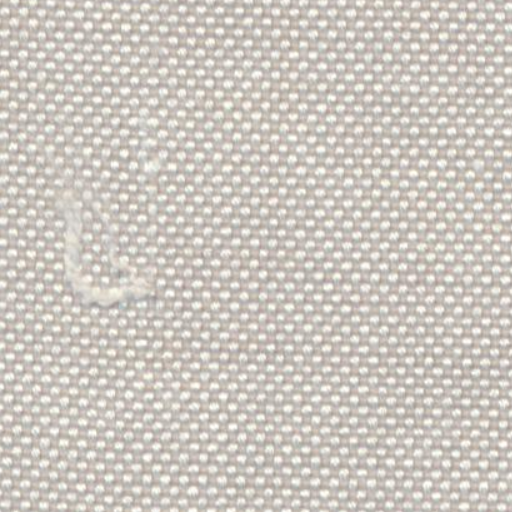DuanSha: (40, 179, 166, 307)
